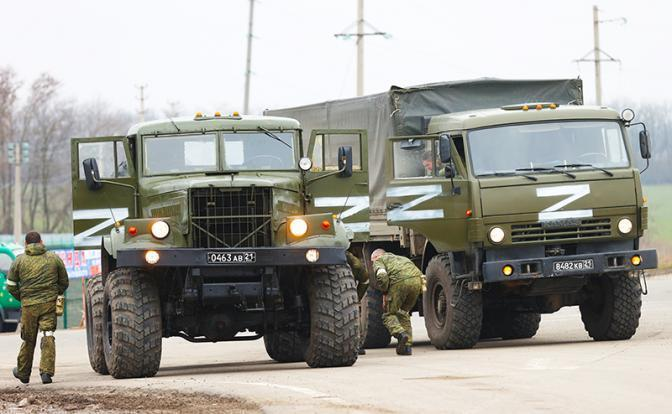person: (3, 231, 74, 381), (368, 247, 424, 354)
truck: (284, 71, 645, 354), (62, 114, 356, 360)
